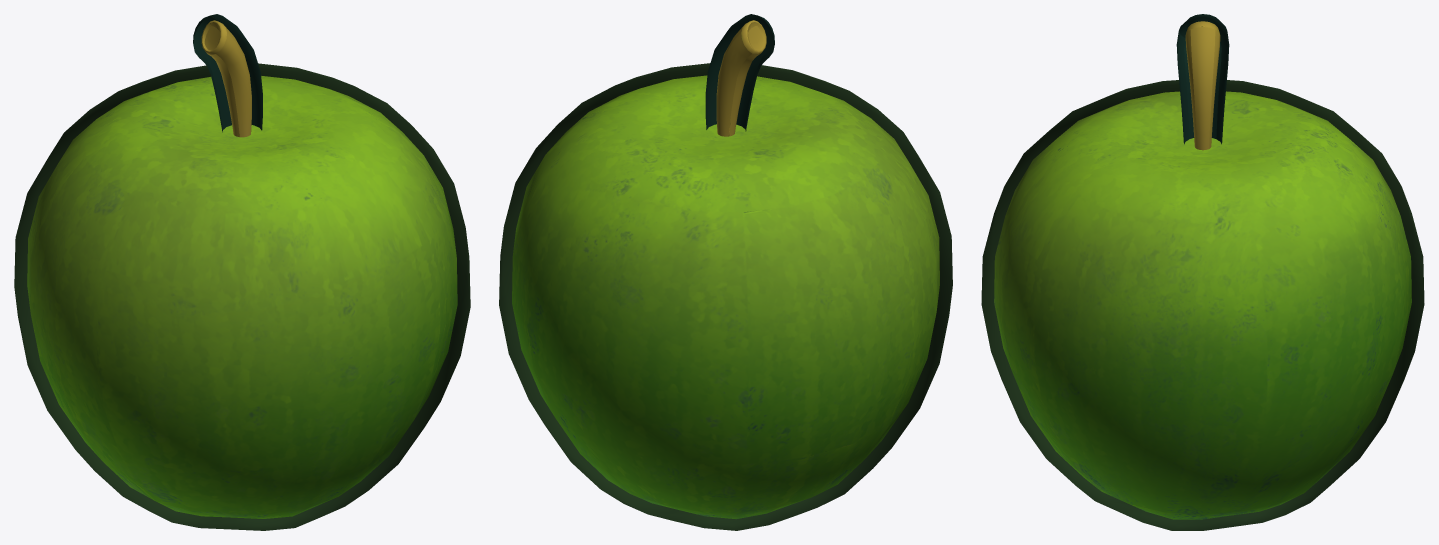
The model's file is fruit.glb.
3 views of the same model, side by side, from view 1: azimuth 30°, elevation 25°; view 2: azimuth 150°, elevation 25°; view 3: azimuth 270°, elevation 25° (orthographic). The views are drawn at different scales.
Parts seen in each view (by area): view 1: Object_6; view 2: Object_6; view 3: Object_6.
Part boxes in pixels (bbox=[...]): Object_6: bbox=[14, 14, 470, 530]; Object_6: bbox=[499, 14, 952, 530]; Object_6: bbox=[981, 14, 1424, 530].
Size of the model in its own units: 0.5499 by 0.6431 by 0.5501.
1 material, 1 textured.
